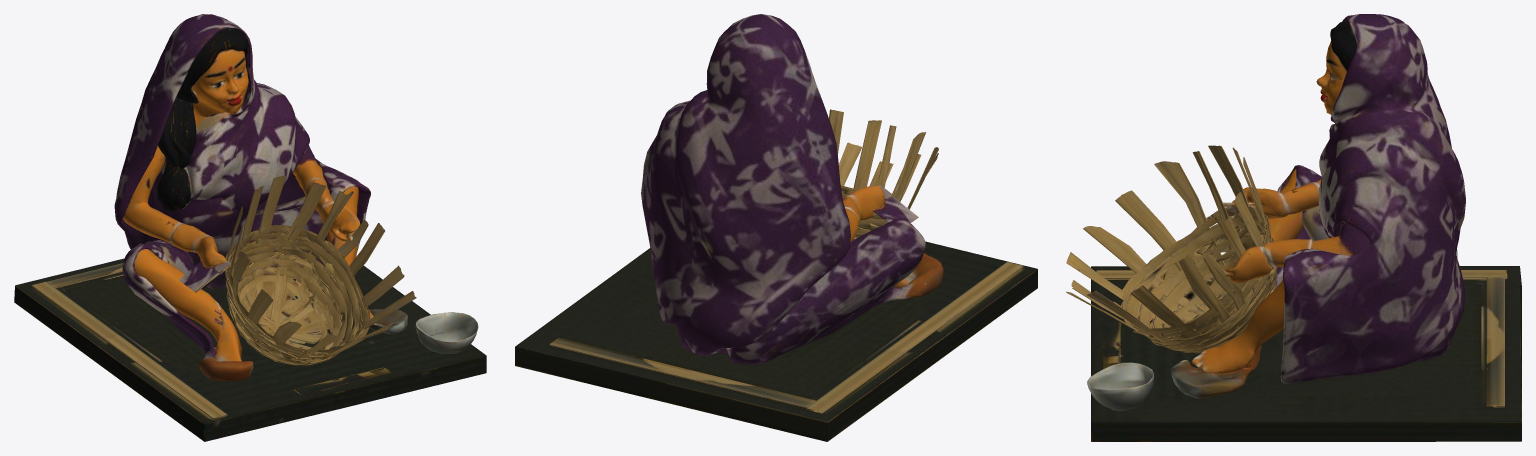
File: the-basket-weaver.glb
The picture shows the model from 3 angles, left to right: view 1: azimuth 30°, elevation 25°; view 2: azimuth 150°, elevation 25°; view 3: azimuth 270°, elevation 25°; orthographic projection. The views are drawn at different scales.
Visible parts, largest first — view 1: the-basket-weaver; view 2: the-basket-weaver; view 3: the-basket-weaver.
Boxes of the visible parts, x1,y1,x2,y2 form: the-basket-weaver: (14,14,486,441); the-basket-weaver: (515,14,1037,441); the-basket-weaver: (1066,14,1521,441).
Bounding box in the file's own units: 0.2162 × 0.22 × 0.267.
Materials: 1 (1 with a texture image).
